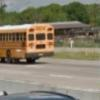buses: (0, 24, 56, 64)
